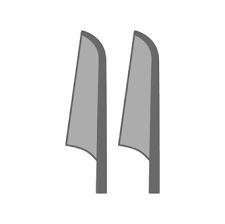Reed: (117, 27, 166, 198), (65, 29, 110, 196)
